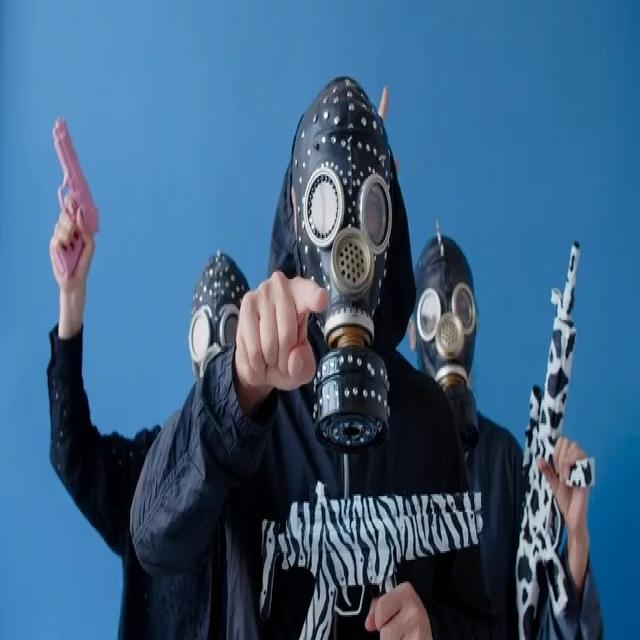Gun_Holder: (509, 212, 602, 640), (38, 117, 121, 316)
Person: (135, 51, 498, 640), (411, 236, 615, 635), (43, 250, 251, 640)
